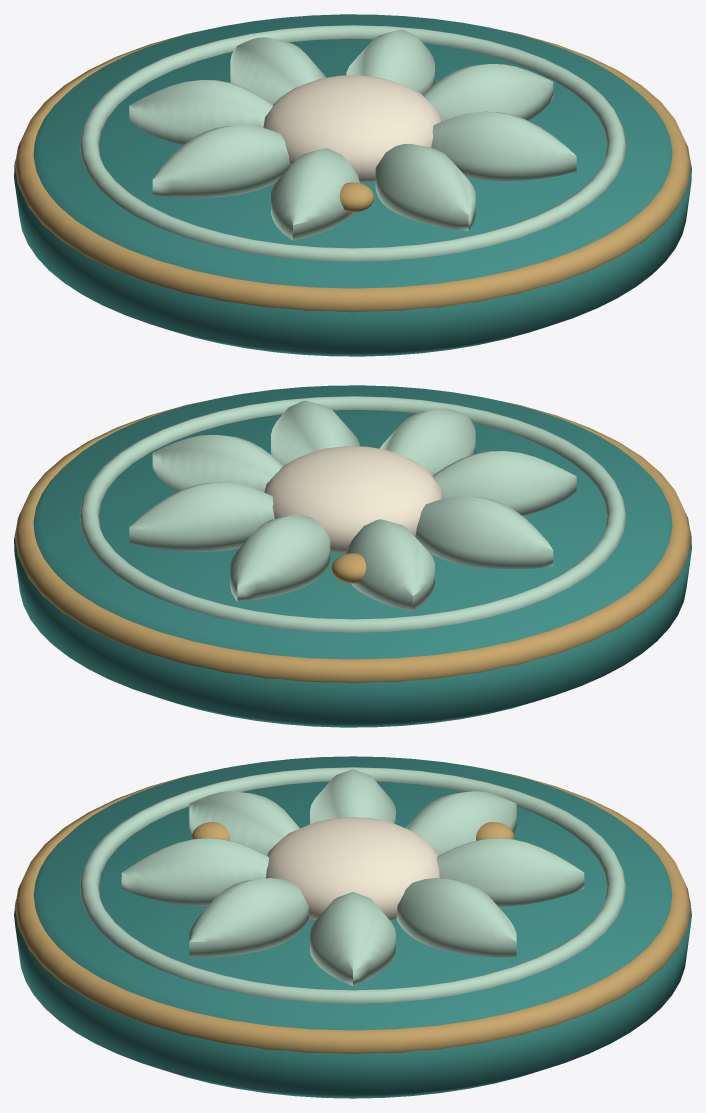
File: gate_seal.glb
3 renders of one model, top to bottom at view 1: azimuth 30°, elevation 25°; view 2: azimuth 150°, elevation 25°; view 3: azimuth 270°, elevation 25°, orthographic.
Visible parts, largest first — view 1: gate_seal_Glazed teal porcelain, gate_seal_Celadon milk glaze, gate_seal_Brushed champagne brass, gate_seal_Porcelain warm ivory; view 2: gate_seal_Glazed teal porcelain, gate_seal_Celadon milk glaze, gate_seal_Brushed champagne brass, gate_seal_Porcelain warm ivory; view 3: gate_seal_Glazed teal porcelain, gate_seal_Celadon milk glaze, gate_seal_Brushed champagne brass, gate_seal_Porcelain warm ivory.
Part boxes in pixels (x1,y1,x2,y2): gate_seal_Glazed teal porcelain: [14, 14, 691, 356]; gate_seal_Celadon milk glaze: [79, 25, 626, 261]; gate_seal_Brushed champagne brass: [15, 26, 690, 312]; gate_seal_Porcelain warm ivory: [263, 75, 441, 181]; gate_seal_Glazed teal porcelain: [14, 385, 691, 727]; gate_seal_Celadon milk glaze: [79, 396, 626, 632]; gate_seal_Brushed champagne brass: [15, 397, 690, 683]; gate_seal_Porcelain warm ivory: [264, 446, 442, 552]; gate_seal_Glazed teal porcelain: [14, 756, 691, 1098]; gate_seal_Celadon milk glaze: [79, 767, 626, 1003]; gate_seal_Brushed champagne brass: [15, 768, 690, 1053]; gate_seal_Porcelain warm ivory: [266, 817, 439, 919].
Bounding box in the file's own units: 1.26 × 0.285 × 1.26.
